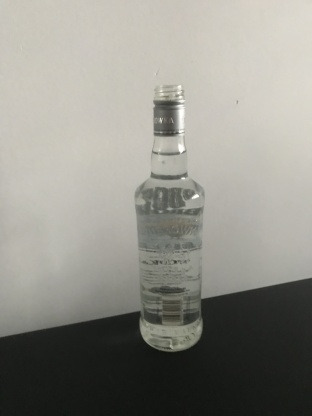nakretka: (150, 82, 187, 136)
